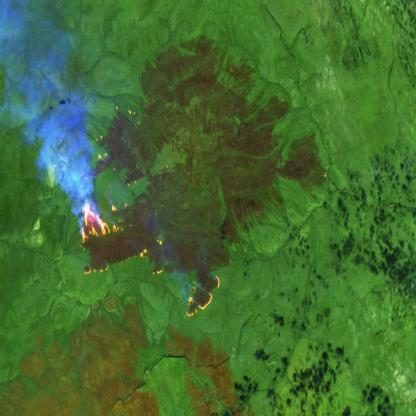fire: (72, 101, 148, 276)
